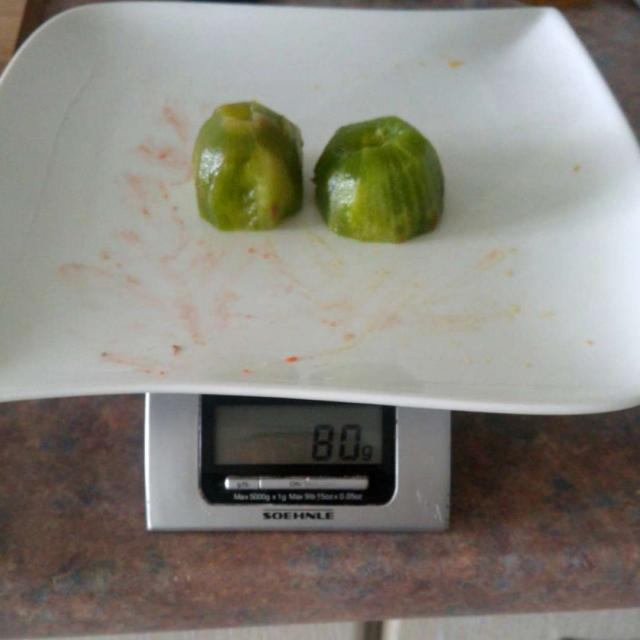kiwi: (190, 101, 462, 253)
